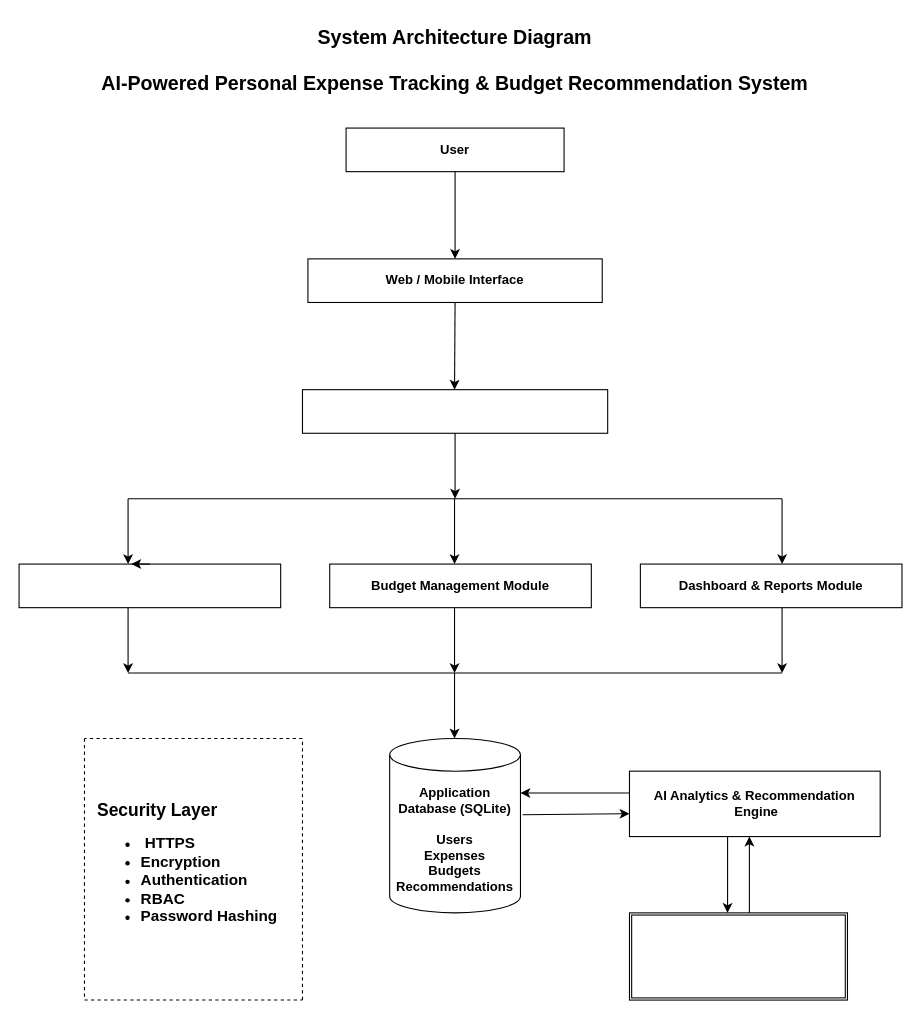
This 921x1020 diagram has some shape labels left out. The centre of each missing label's shape, as x and y in pixels:
"Authentication & Authorization Module" belongs at pixel 454 411.
"Expense Management Module" belongs at pixel 149 585.
"External Services OpenAI API" belongs at pixel 737 956.
